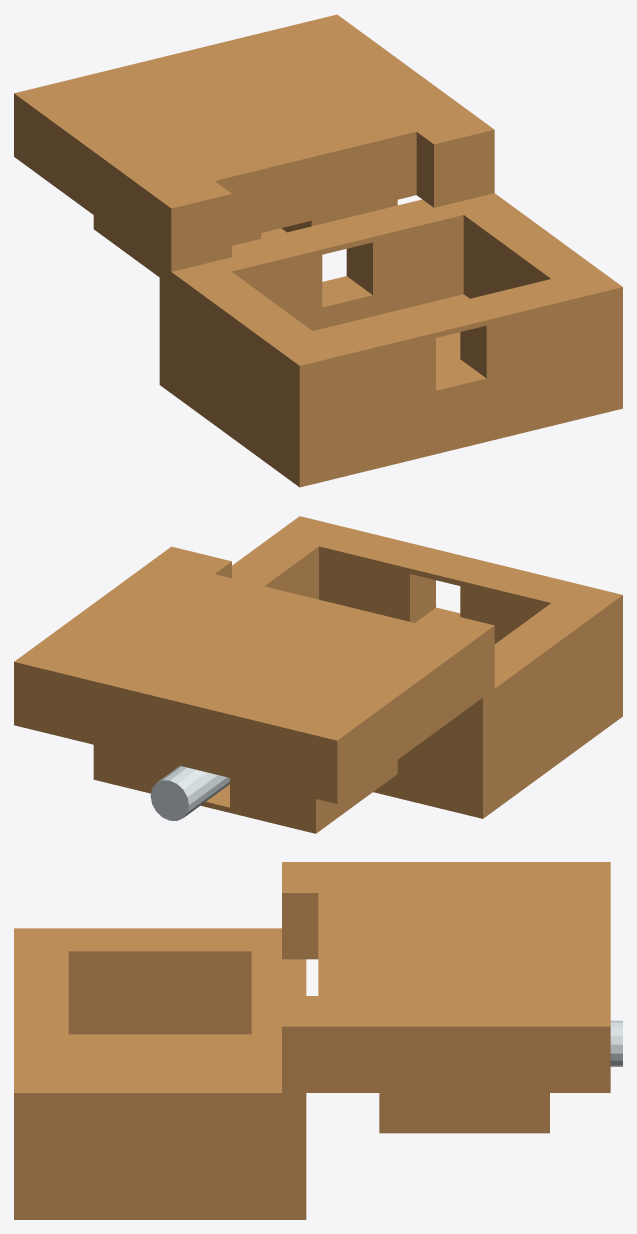
The picture shows the model from 3 angles, top to bottom: view 1: azimuth 30°, elevation 25°; view 2: azimuth 150°, elevation 25°; view 3: azimuth 270°, elevation 25°; orthographic projection. The views are drawn at different scales.
Parts seen in each view (by area): view 1: D02_WideAdapter_M_1; view 2: D02_WideAdapter_M_1; view 3: D02_WideAdapter_M_1.
Boxes of the visible parts, x1,y1,x2,y2 form: D02_WideAdapter_M_1: (14, 14, 622, 487); D02_WideAdapter_M_1: (14, 516, 622, 833); D02_WideAdapter_M_1: (14, 862, 622, 1219).
Bounding box in the file's own units: 0.064 × 0.035 × 0.1.
